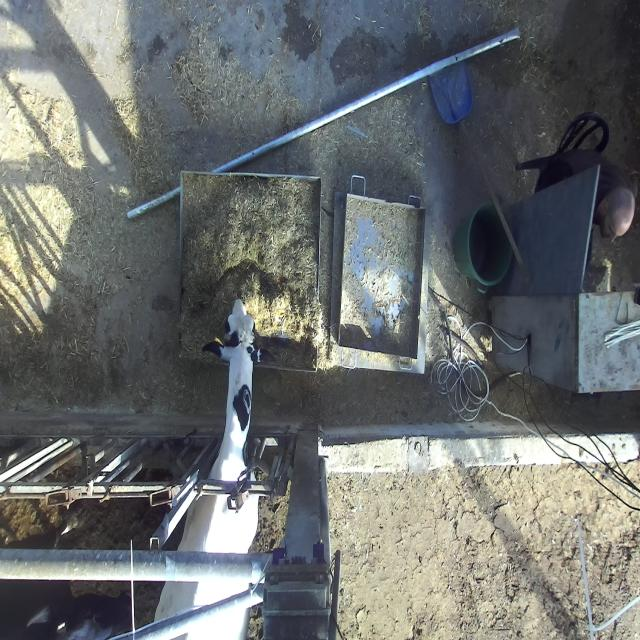cow: (202, 300, 279, 370)
